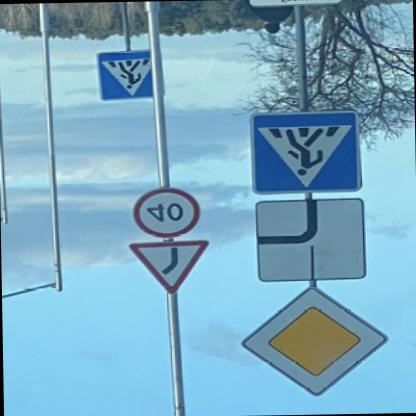crosswalk: (247, 111, 358, 196), (95, 50, 162, 102)
speedlimit: (130, 188, 197, 240)
